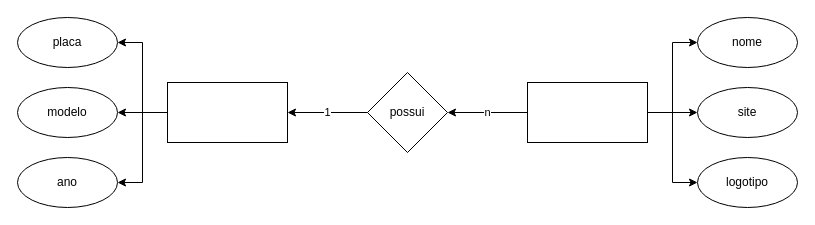
This 815x225 diagram has some shape labels left out. The shapes that lost their labels are listed below. From the top down, each one's centre as x and y in pixels, then its label:
At pixel 227 112: "automovel".
At pixel 587 112: "montadora".
